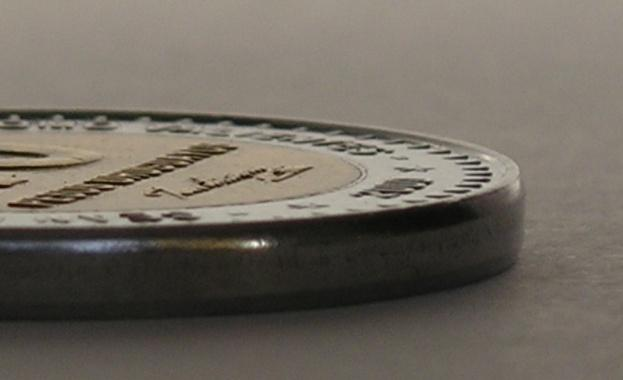metal: (0, 110, 526, 320)
